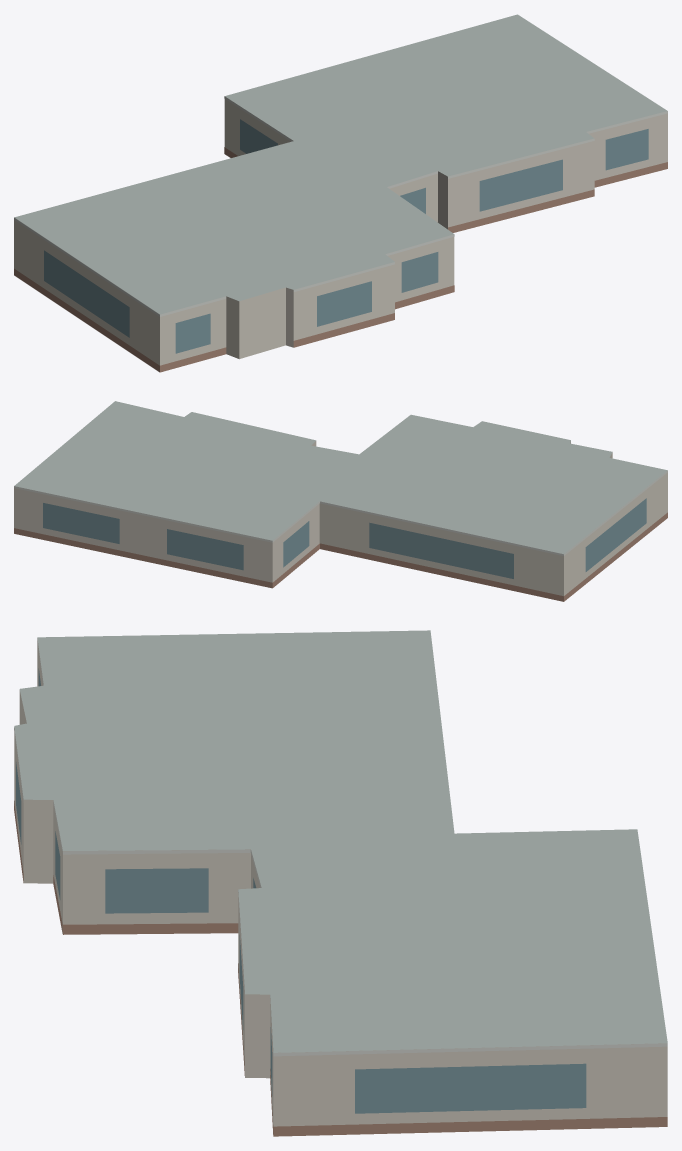
The model's file is survey-upis-32823356.glb.
3 views of the same model, one above another, from view 1: azimuth 30°, elevation 25°; view 2: azimuth 150°, elevation 25°; view 3: azimuth 270°, elevation 25° (orthographic). The views are drawn at different scales.
Visible parts, largest first — view 1: survey-upis-32823356.tmp; view 2: survey-upis-32823356.tmp; view 3: survey-upis-32823356.tmp.
Boxes of the visible parts, x1=… form: survey-upis-32823356.tmp: x1=14, y1=14, x2=667, y2=372; survey-upis-32823356.tmp: x1=14, y1=401, x2=667, y2=601; survey-upis-32823356.tmp: x1=14, y1=630, x2=667, y2=1136.
Bounding box in the file's own units: 33.06 × 3.05 × 21.62.
